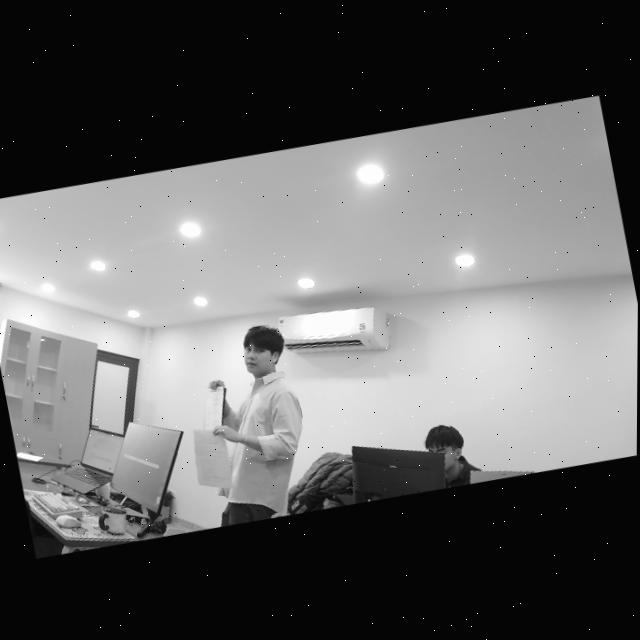document: (193, 429, 232, 488), (204, 387, 223, 430)
face: (239, 333, 281, 380)
